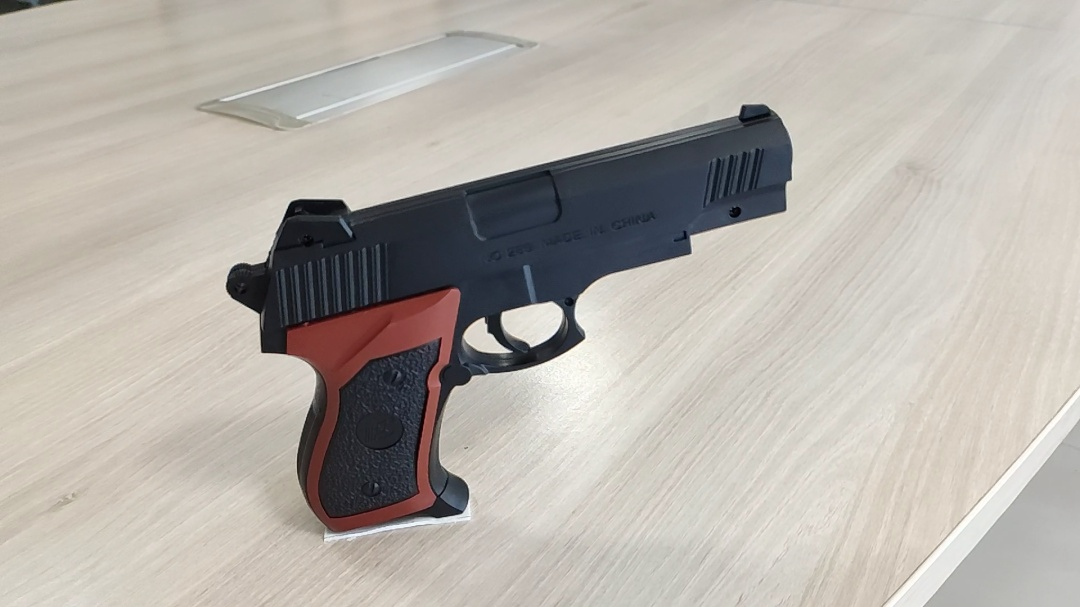gun: (586, 279, 627, 313)
